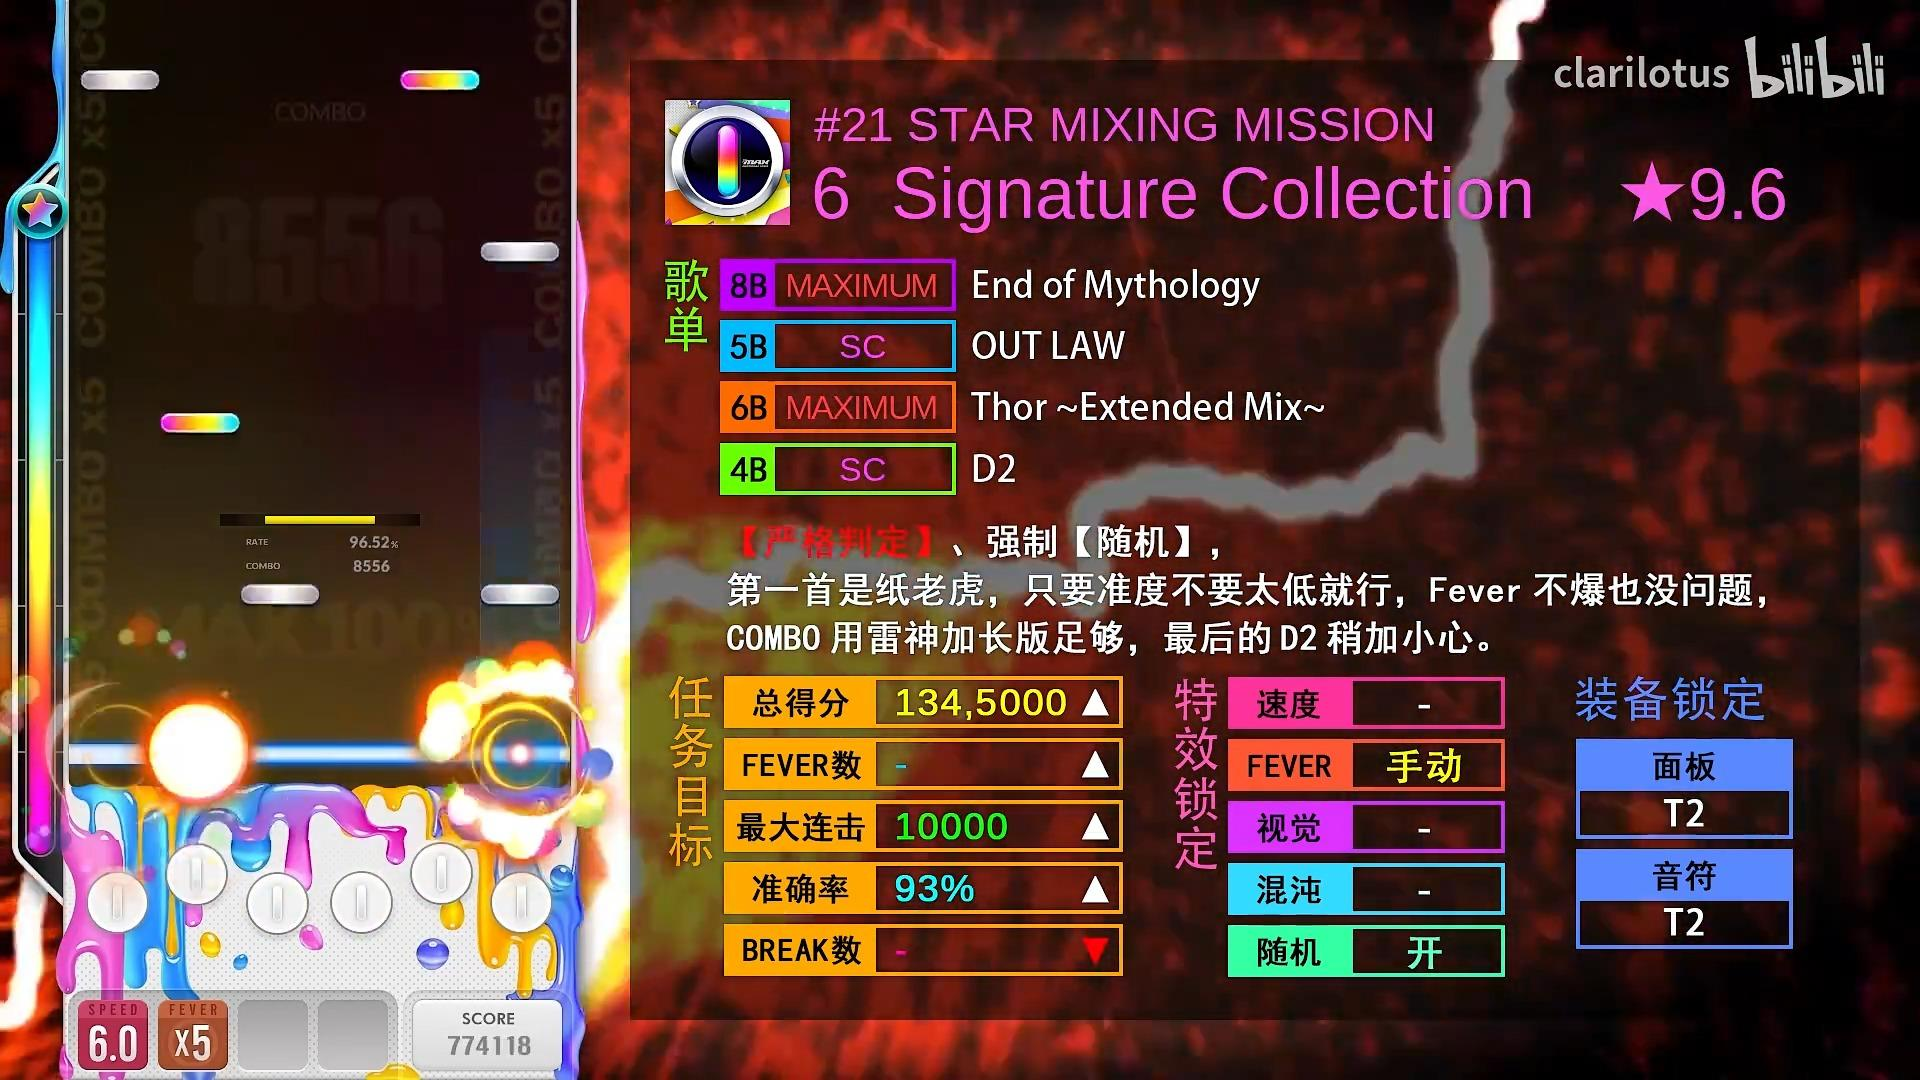note: (481, 583, 559, 607), (161, 413, 240, 434), (240, 584, 319, 605), (82, 70, 160, 91), (401, 70, 479, 91), (480, 241, 560, 261)
